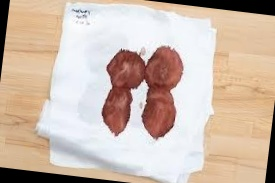blood: (100, 46, 148, 139), (139, 44, 184, 142)
